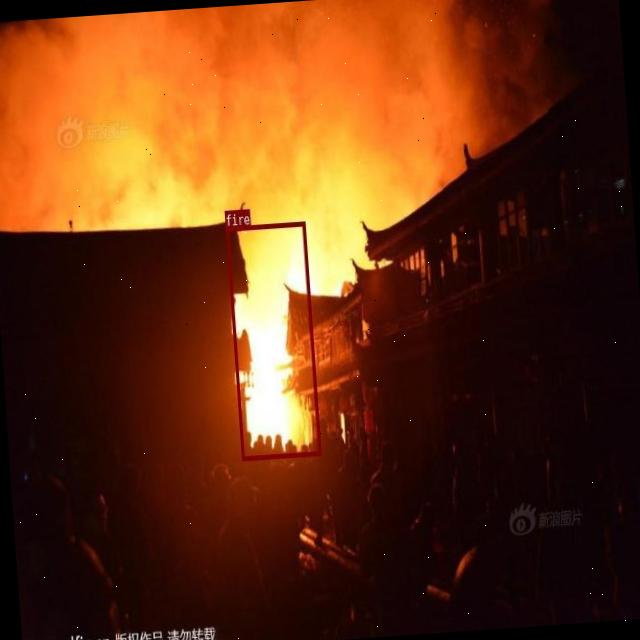fire: (224, 220, 320, 460)
